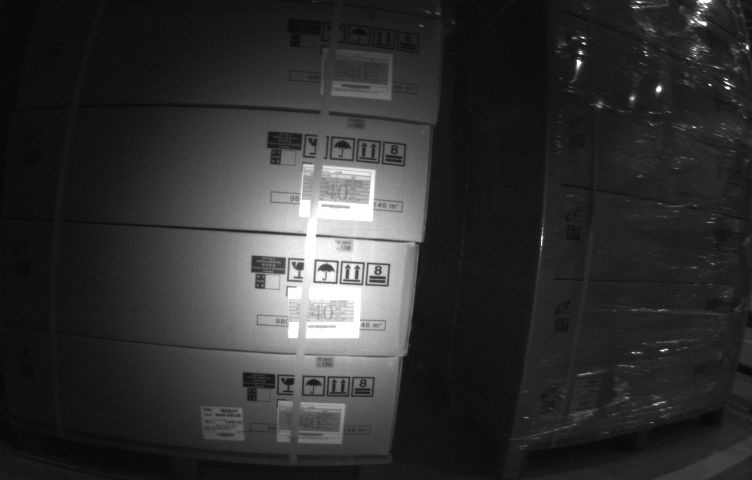True Barcode: (200, 407, 243, 443)
